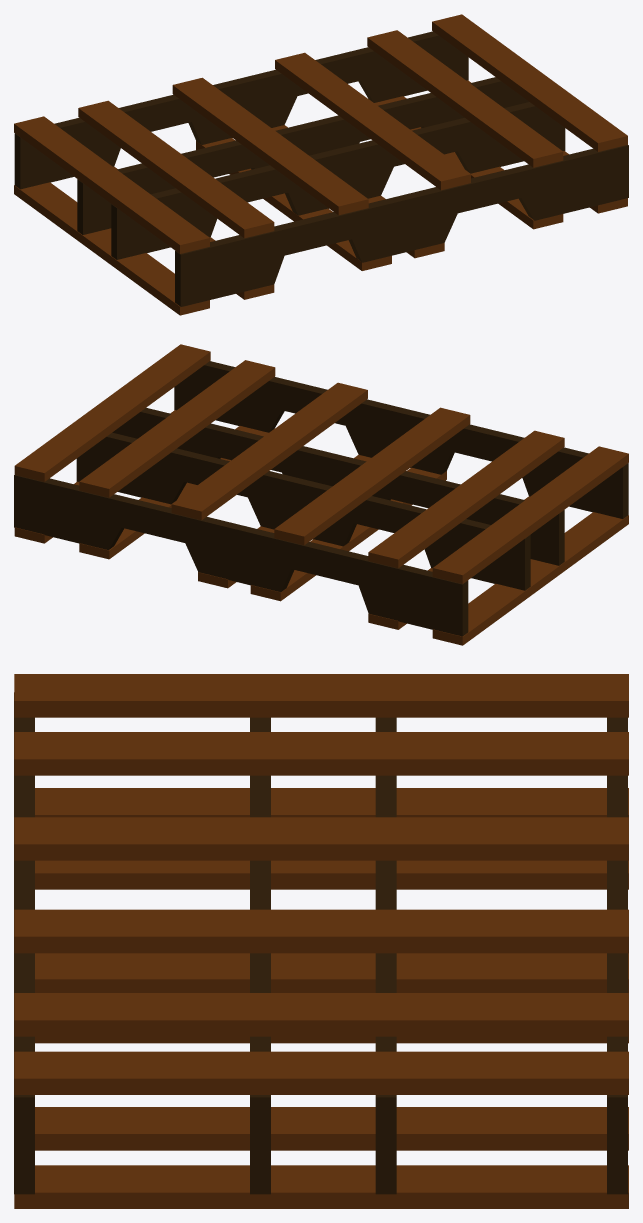
The model's file is maderaItem.fbx.
The picture shows the model from 3 angles, top to bottom: view 1: azimuth 30°, elevation 25°; view 2: azimuth 150°, elevation 25°; view 3: azimuth 270°, elevation 25°; orthographic projection. The views are drawn at different scales.
Parts seen in each view (by area): view 1: maderaItem; view 2: maderaItem; view 3: maderaItem.
Boxes of the visible parts, left/top/right/bottom form: maderaItem: left=14, top=14, right=628, bottom=315; maderaItem: left=14, top=344, right=628, bottom=645; maderaItem: left=14, top=674, right=628, bottom=1208.
Size of the model in its own units: 69.06 by 10.35 by 44.29.
